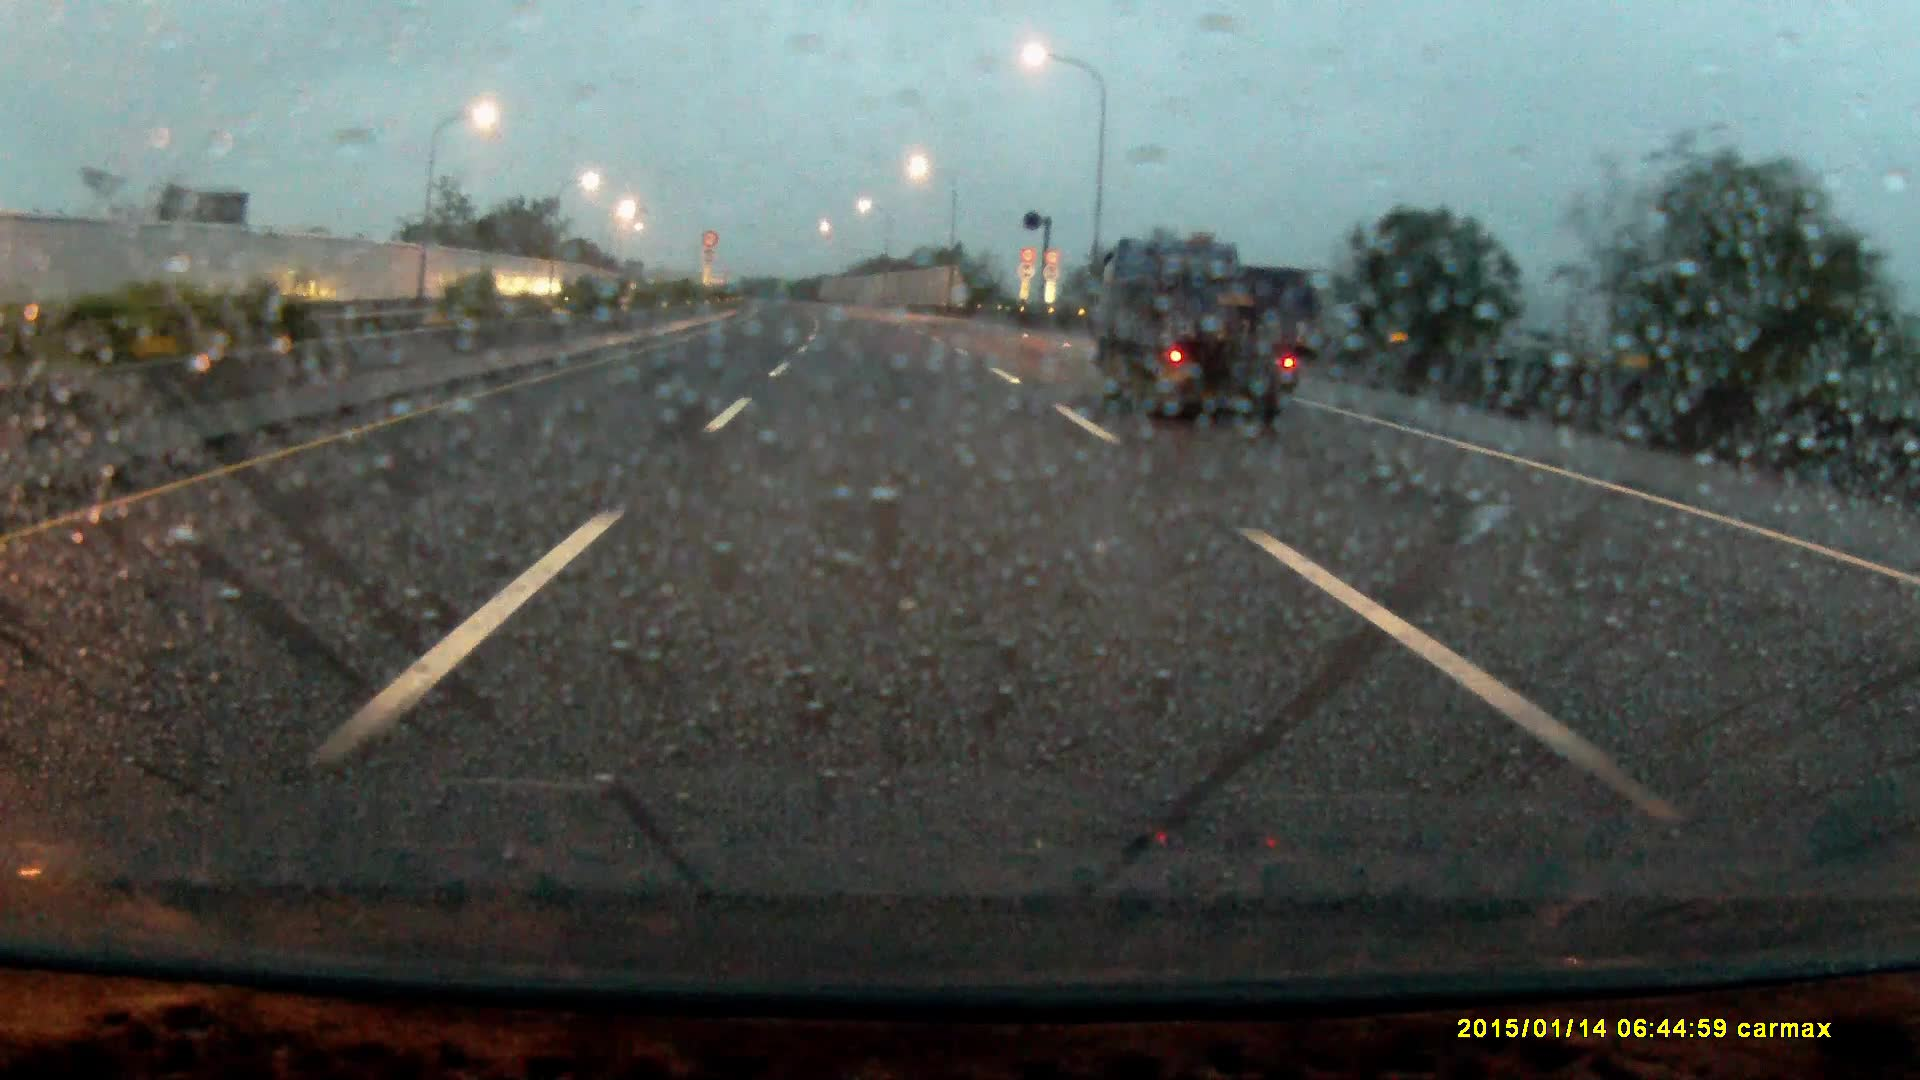vehicle: (1093, 241, 1308, 419)
